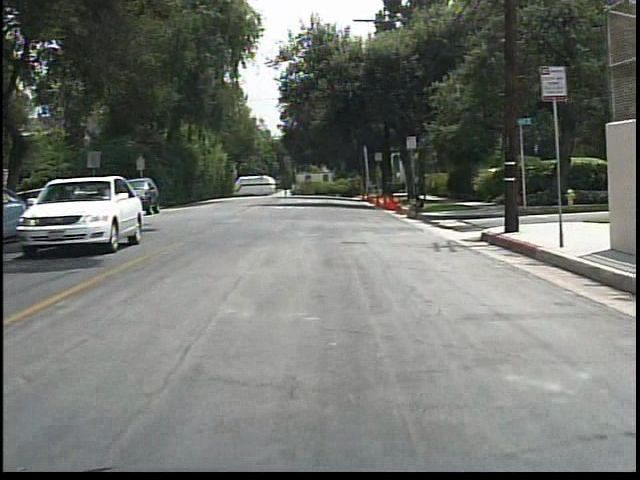person: (403, 189, 432, 221)
